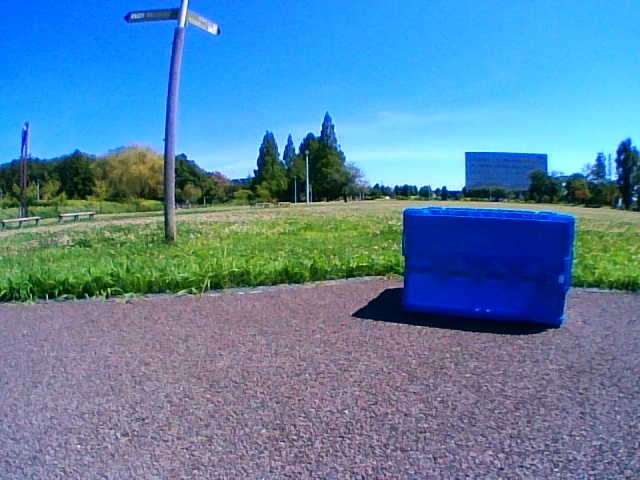blue_box: (403, 207, 575, 330)
